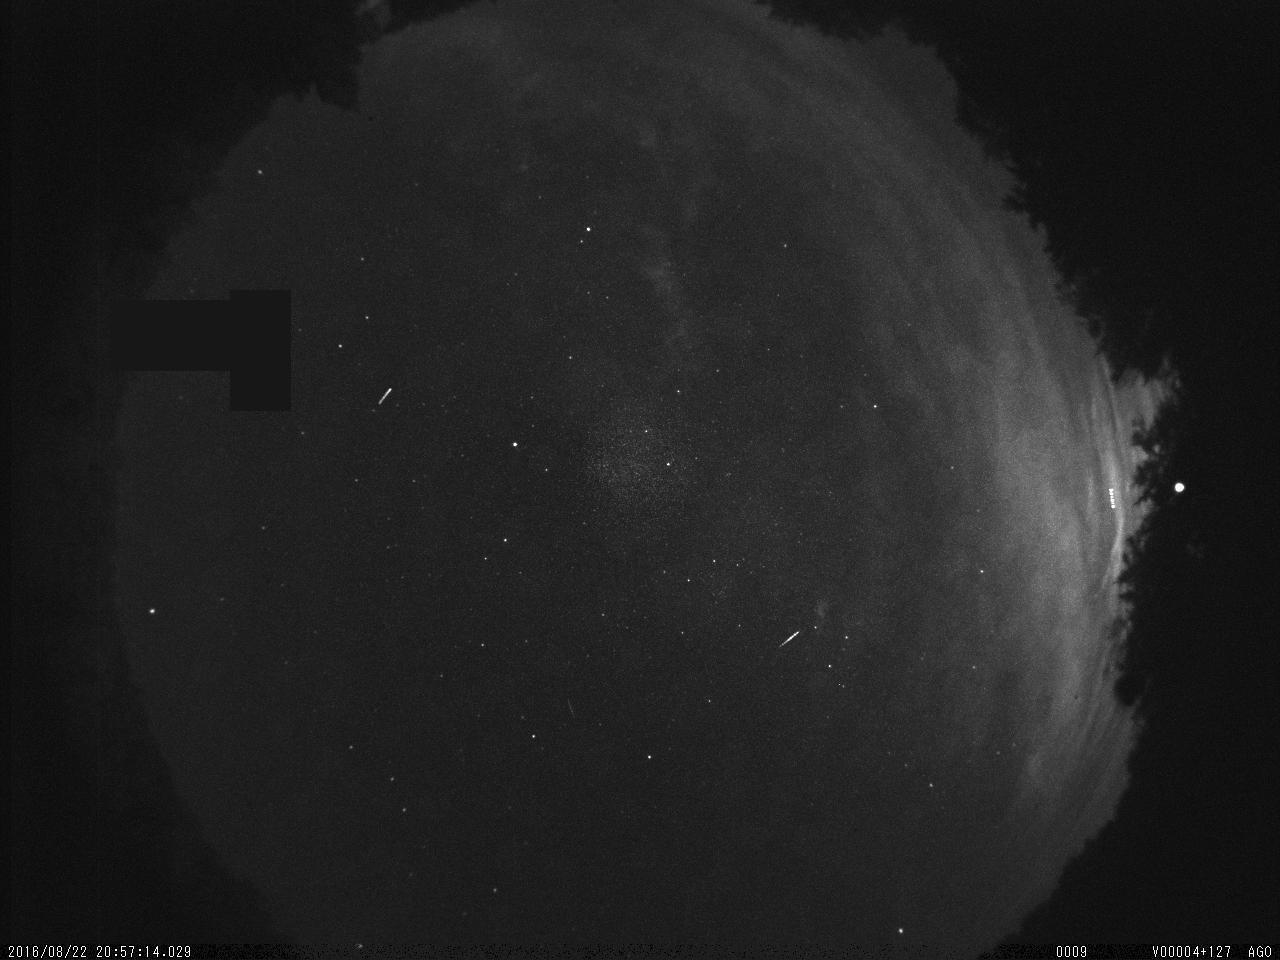meteor: (774, 617, 807, 654)
